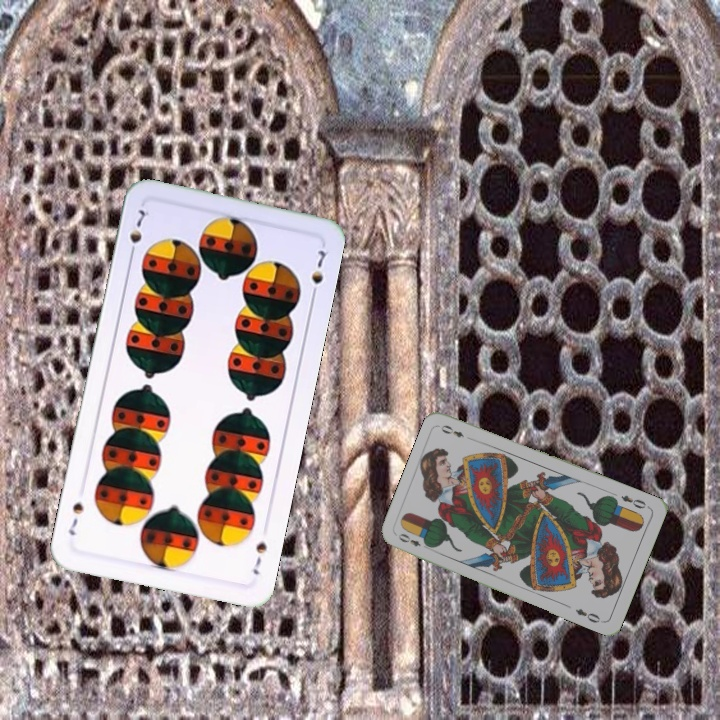EO: (394, 529, 433, 552), (617, 491, 649, 511)
S7: (125, 205, 152, 261), (249, 537, 270, 577)
